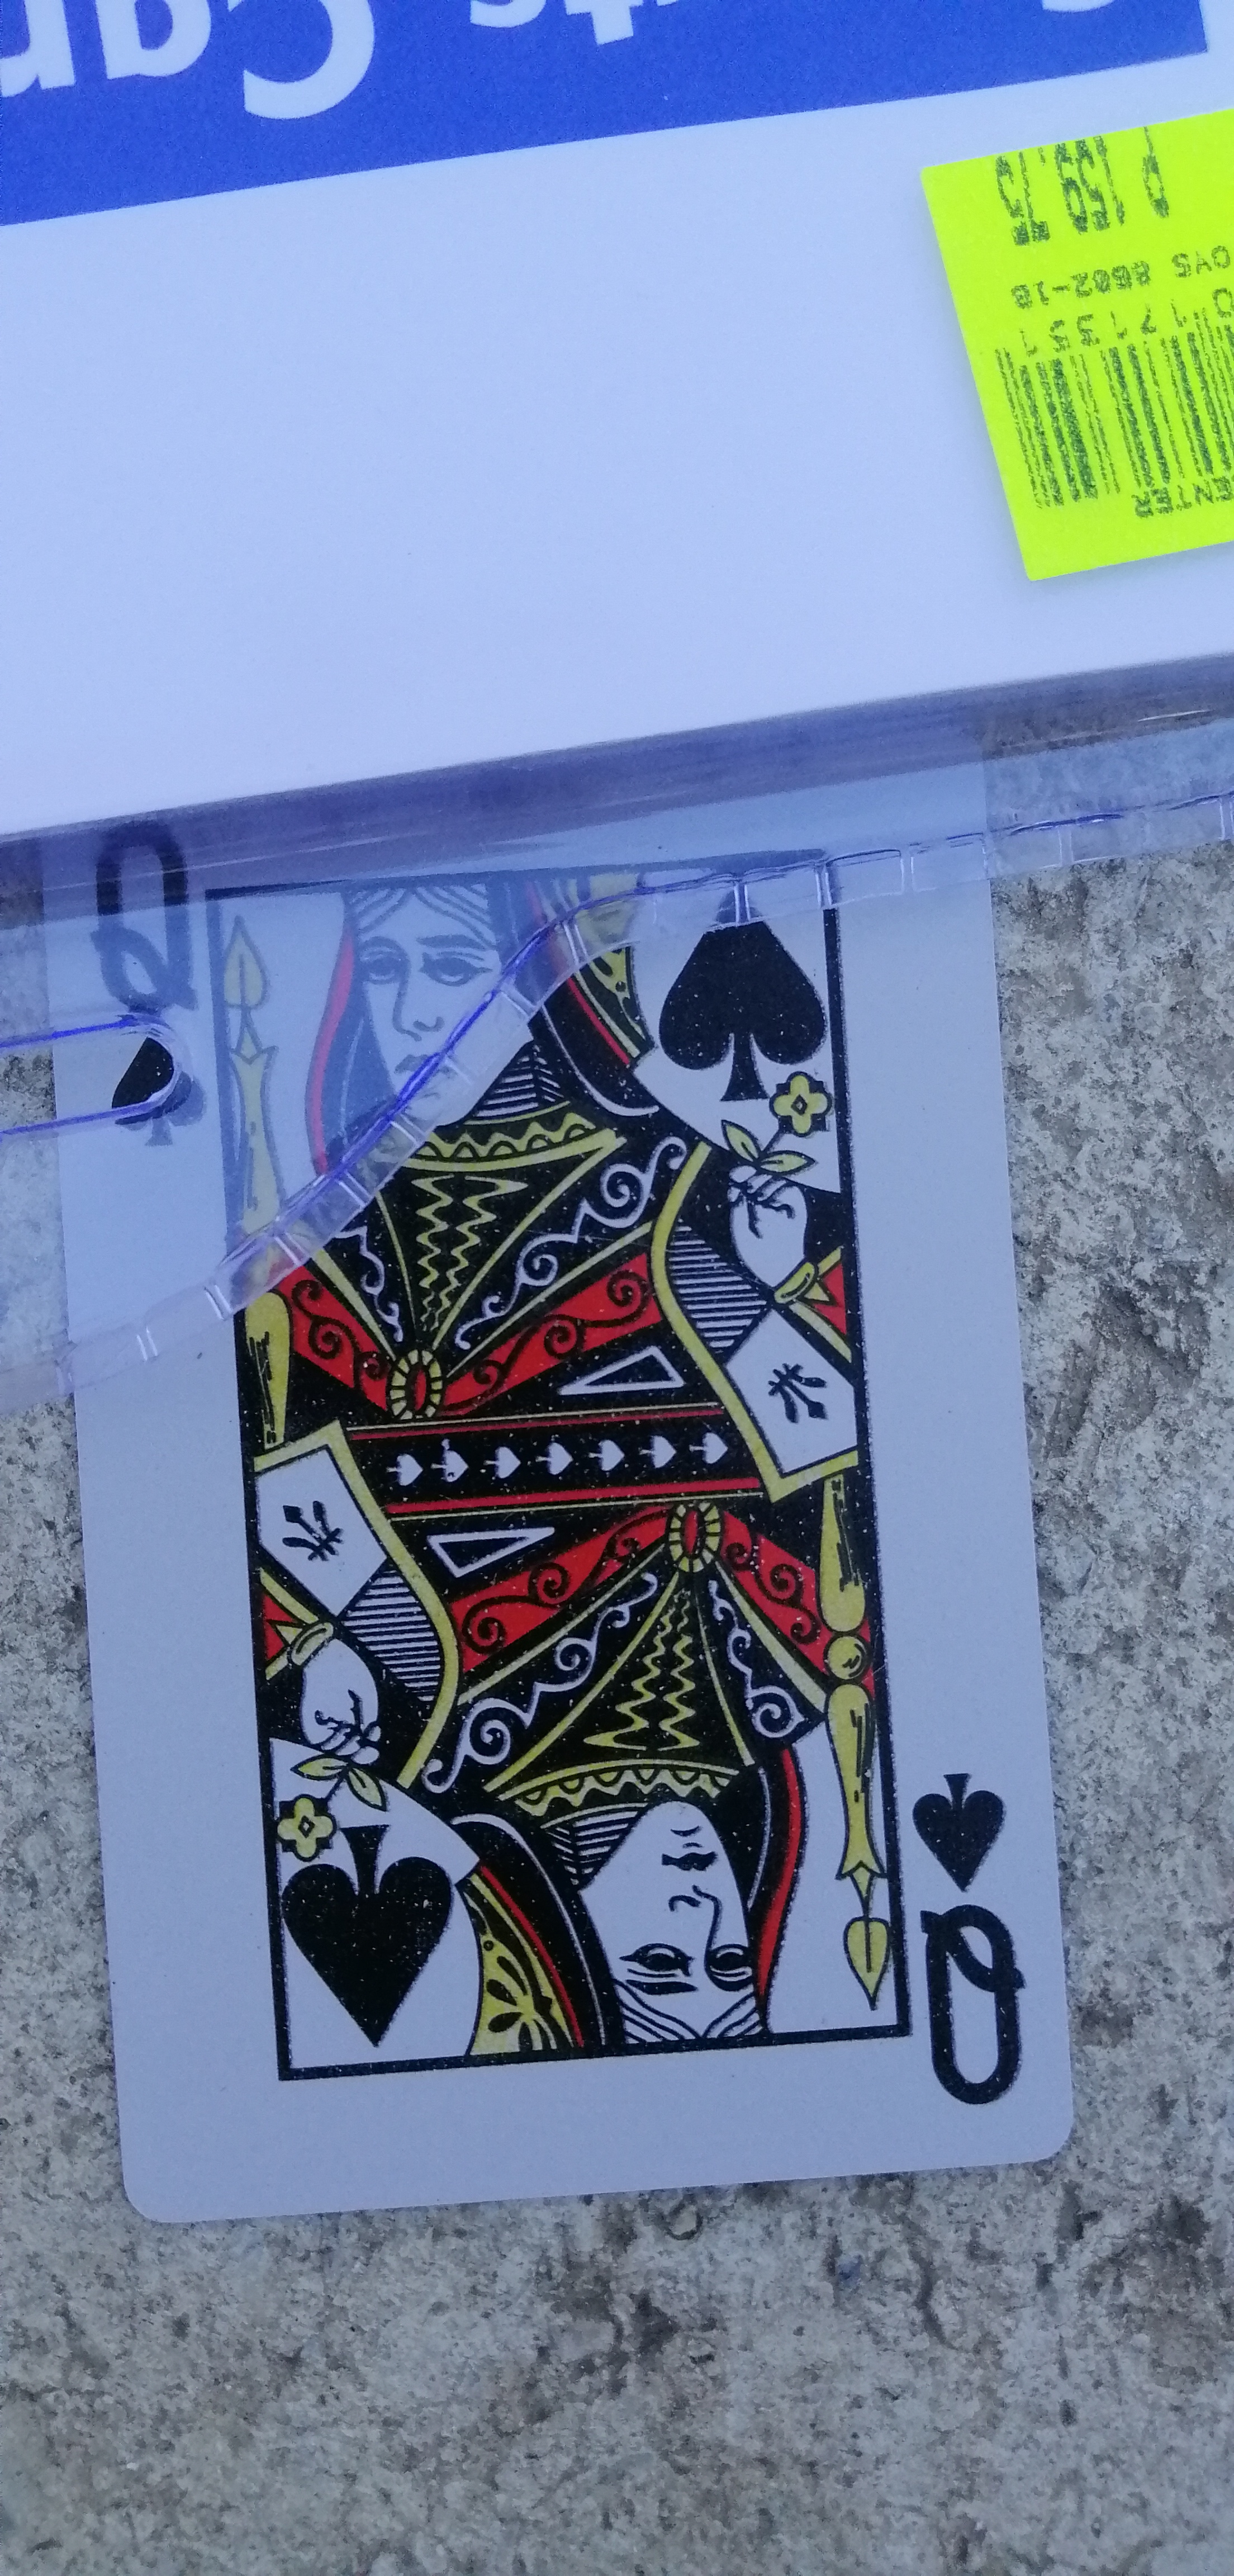queen: (16, 800, 1114, 2239)
